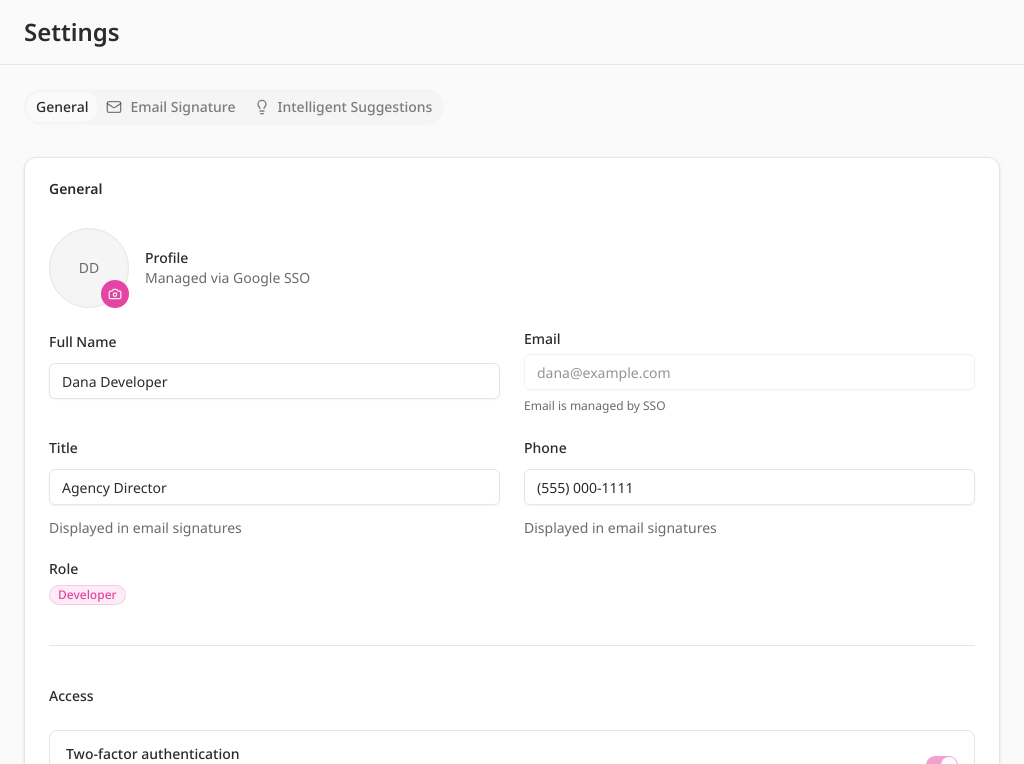
Test case: SettingsPage › discards profile edits from the save bar
Replace the text in the field labelled "Title" with "Director" at (274, 487), box [49,469,500,505]
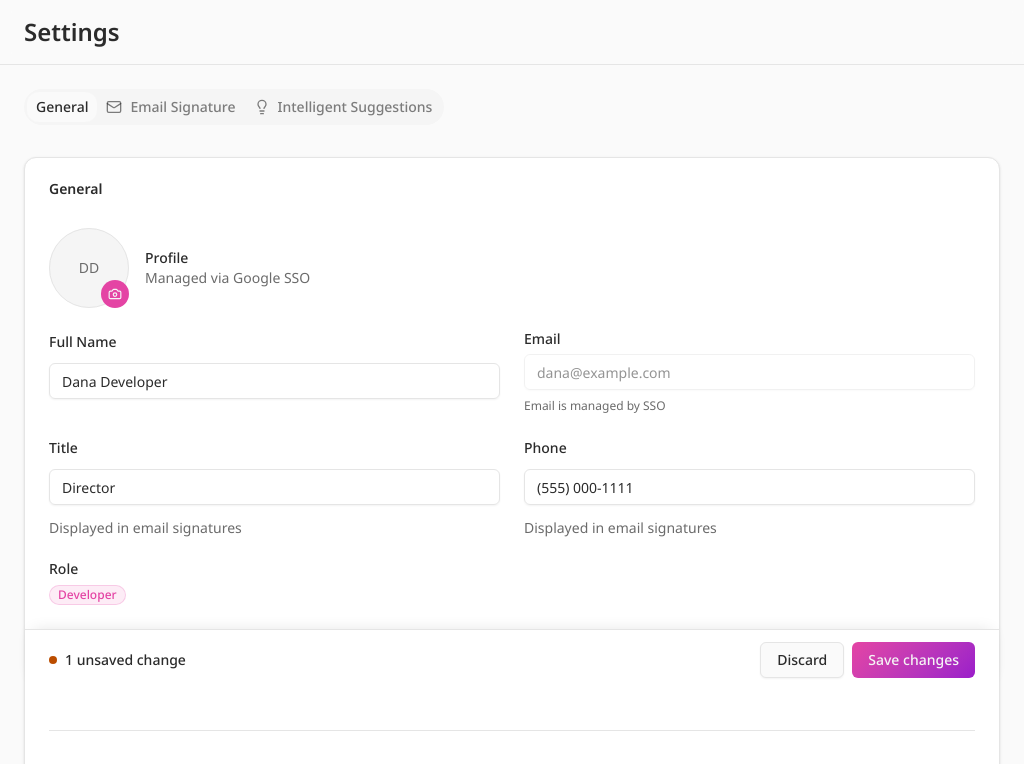
expect the element named "Unsaved changes" shows "1 unsaved change": met, box [65,650,186,669]
Click the button "Discard".
click(802, 660)  # box [760,642,844,678]
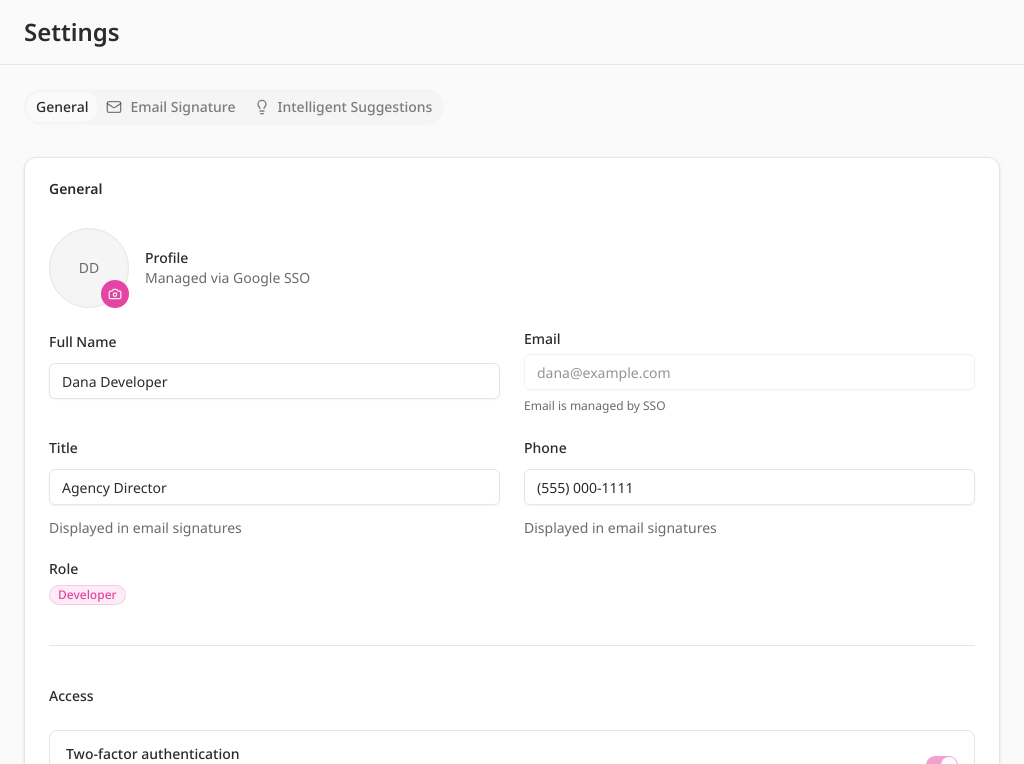
expect the field labelled "Title" holds "Agency Director": met, box [49,469,500,505]
